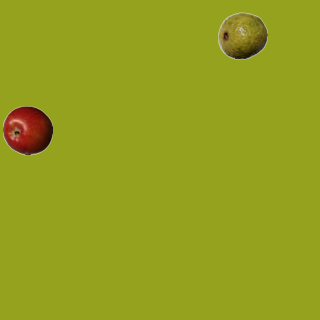Apple Braeburn: (2, 105, 52, 155)
Guava: (217, 10, 267, 60)
